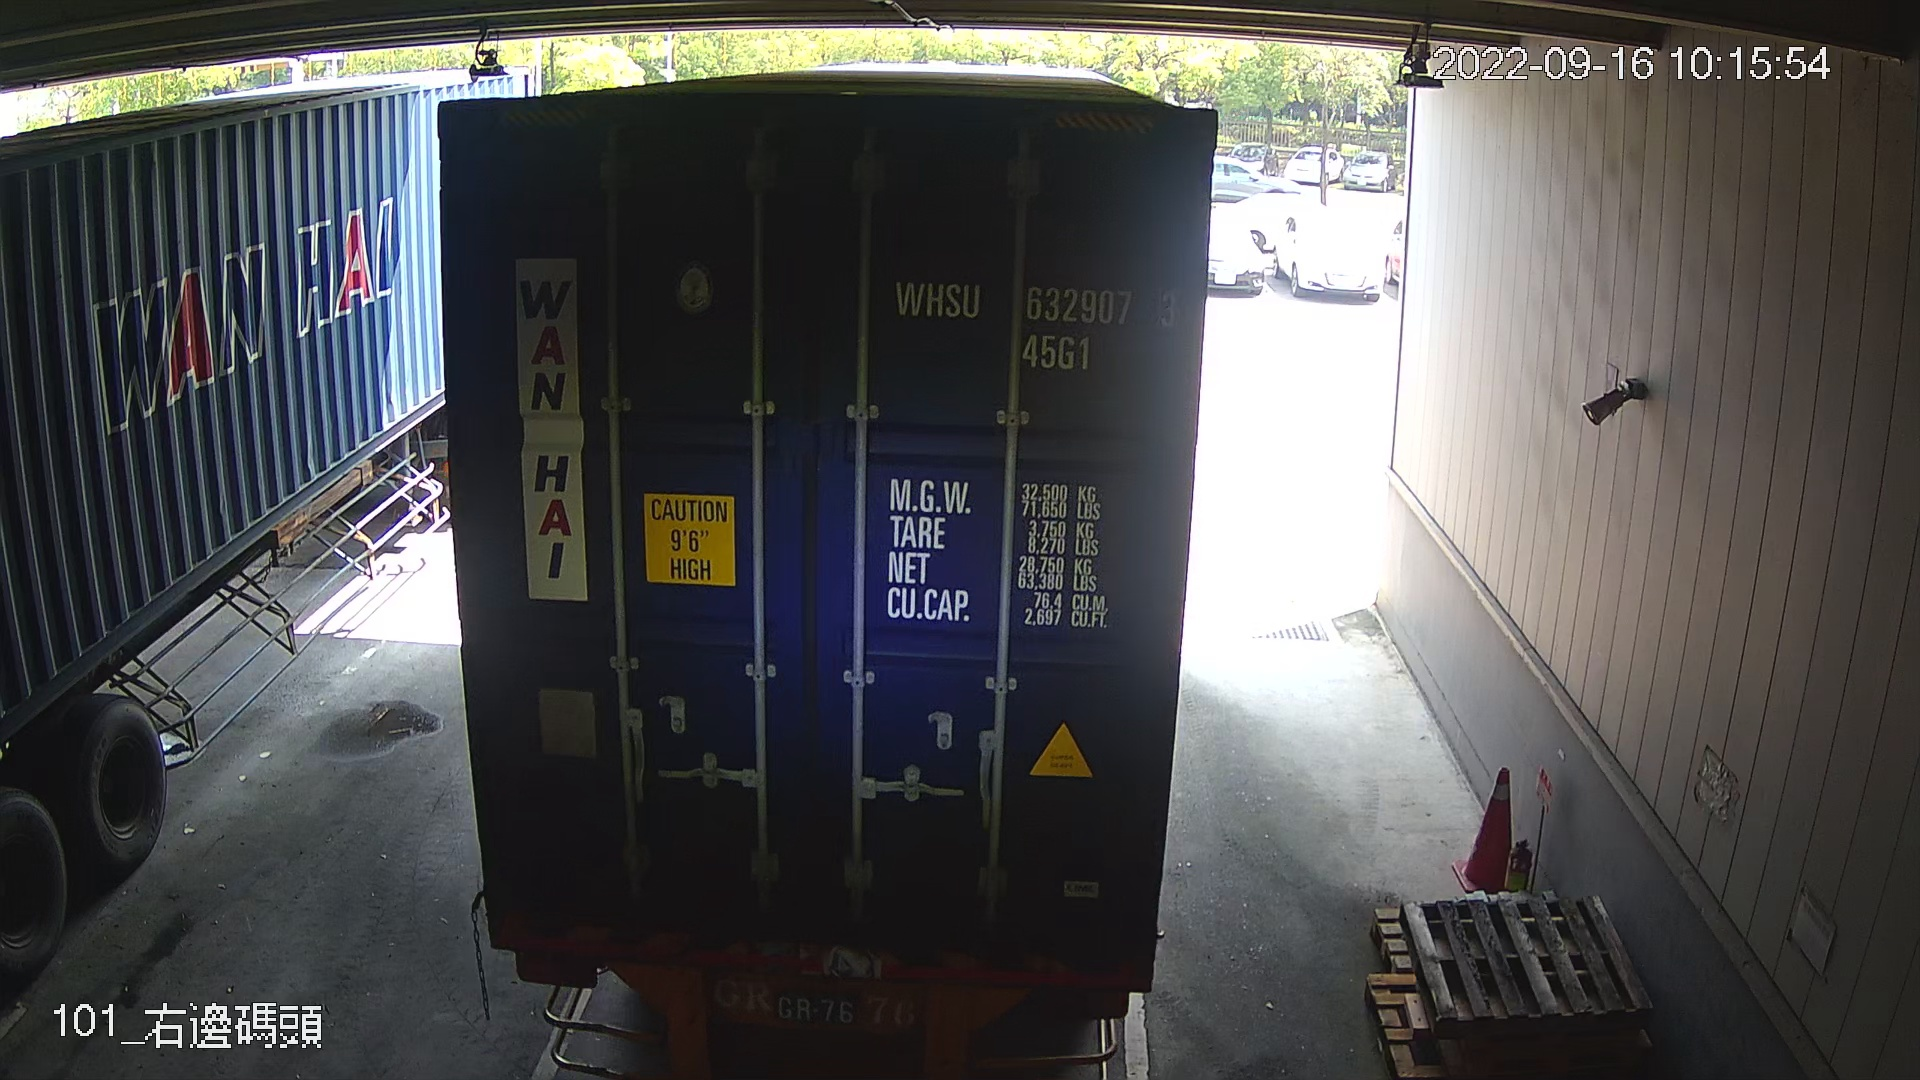container: (880, 266, 1187, 382)
